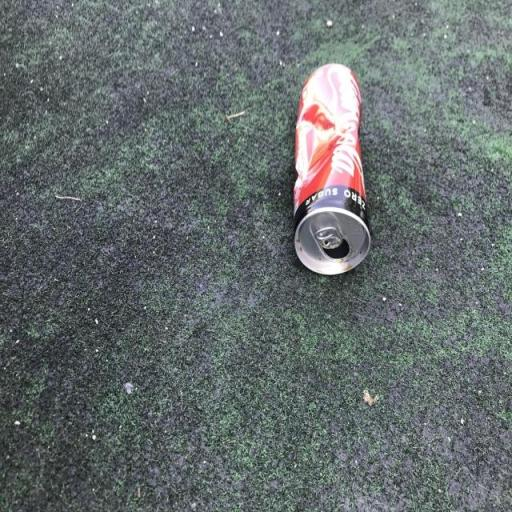metal: (272, 42, 393, 294)
